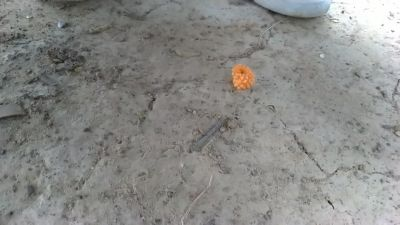eggs: (231, 60, 257, 94)
